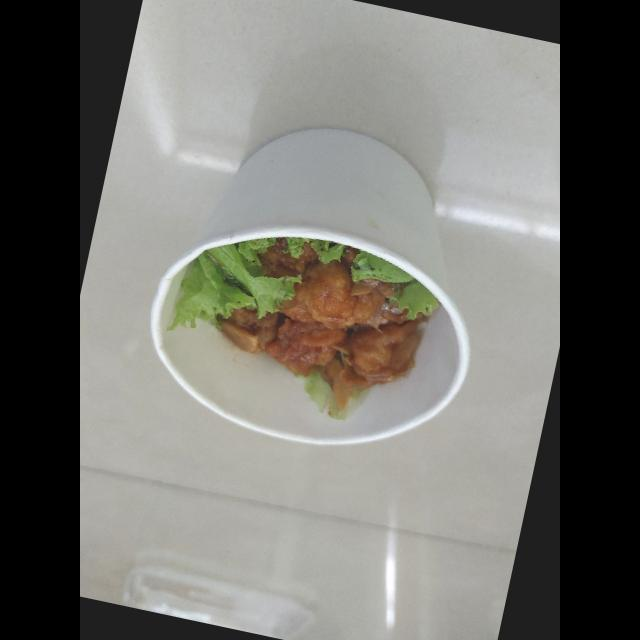rice-bowl: (116, 73, 532, 490)
